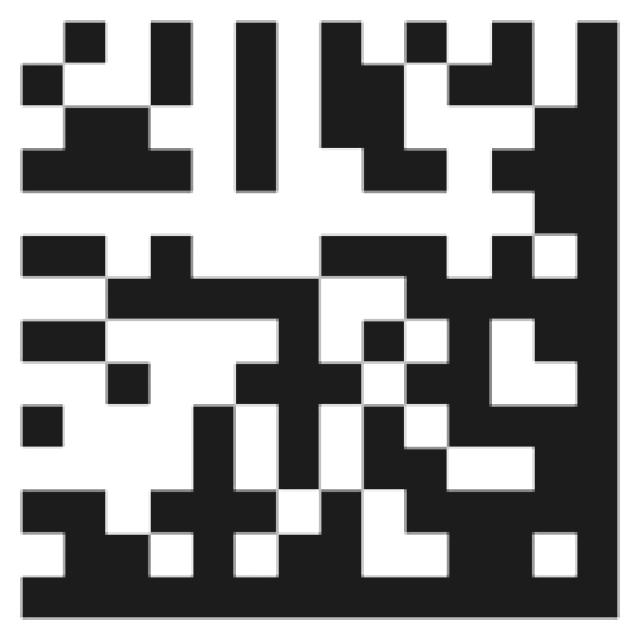DataMatrix: (12, 12, 628, 628)
